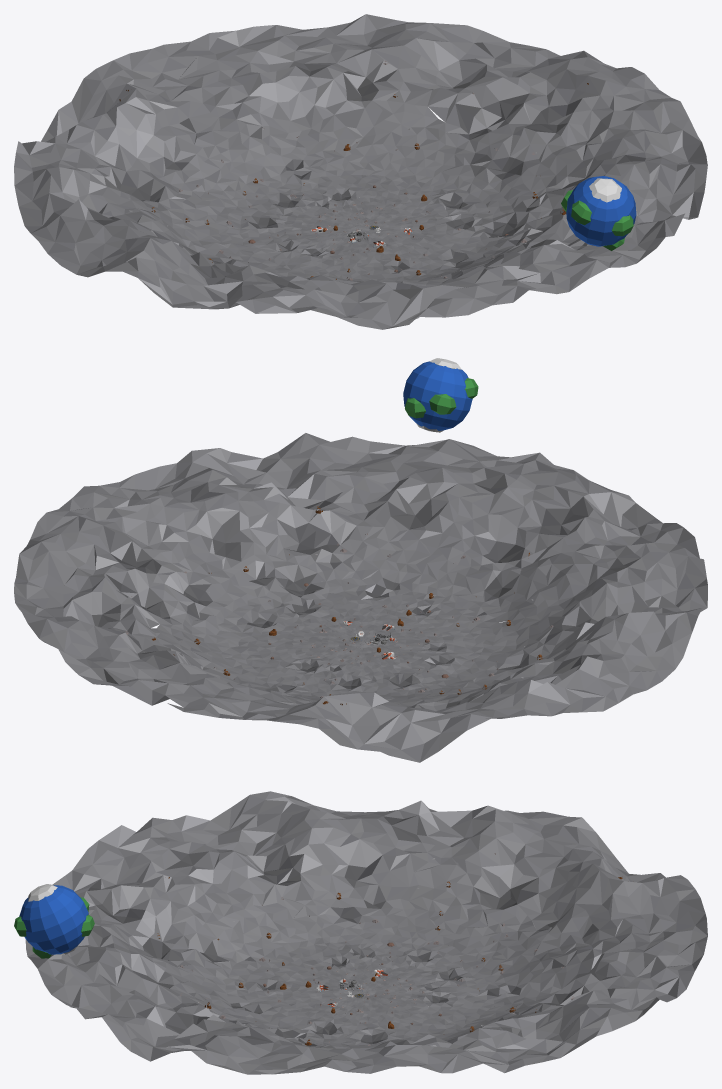
Rendered from world_space_lite.glb.
3 renders of one model, top to bottom at view 1: azimuth 30°, elevation 25°; view 2: azimuth 150°, elevation 25°; view 3: azimuth 270°, elevation 25°, orthographic.
Visible parts, largest first — view 1: Sector5, Sector6, Sector4, Sector3, Sector7, Sector2, Sector1, Sector0; view 2: Sector2, Sector3, Sector1, Sector4, Sector0, Sector5, Sector7, Sector6; view 3: Sector7, Sector0, Sector6, Sector1, Sector2, Sector5, Sector3, Sector4.
Boxes of the visible parts, <box> form: Sector5: <box>186,14,465,226</box>; Sector6: <box>41,41,360,227</box>; Sector4: <box>361,25,658,227</box>; Sector3: <box>362,89,707,240</box>; Sector7: <box>14,137,360,265</box>; Sector2: <box>361,176,697,294</box>; Sector1: <box>256,227,528,329</box>; Sector0: <box>61,226,360,313</box>; Sector2: <box>263,358,539,643</box>; Sector3: <box>59,448,360,643</box>; Sector1: <box>361,453,699,643</box>; Sector4: <box>14,508,360,656</box>; Sector0: <box>362,548,707,681</box>; Sector5: <box>22,612,360,711</box>; Sector7: <box>361,639,661,733</box>; Sector6: <box>184,644,466,762</box>; Sector7: <box>351,800,599,990</box>; Sector0: <box>133,791,369,990</box>; Sector6: <box>367,833,707,992</box>; Sector1: <box>52,825,365,992</box>; Sector2: <box>14,884,365,1051</box>; Sector5: <box>367,930,707,1036</box>; Sector3: <box>131,991,377,1074</box>; Sector4: <box>352,991,600,1073</box>.
Size of the model in its own units: 1400 by 336 by 1423.
